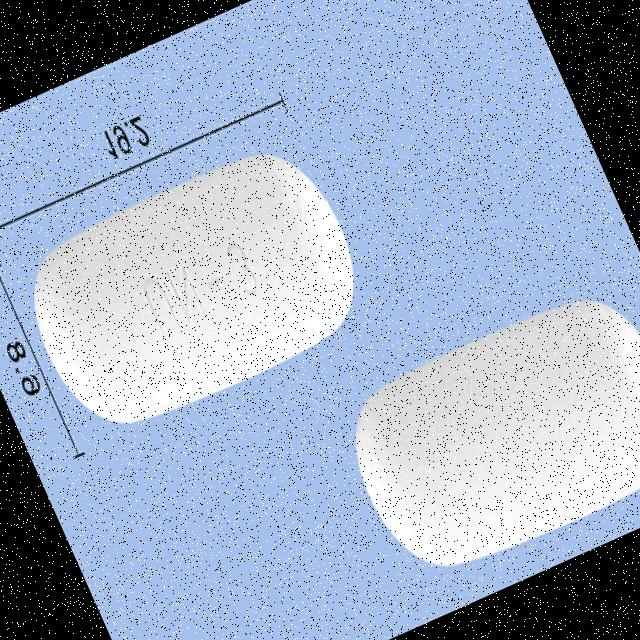Unasyn Tab: (6, 132, 380, 446), (331, 277, 640, 593)
